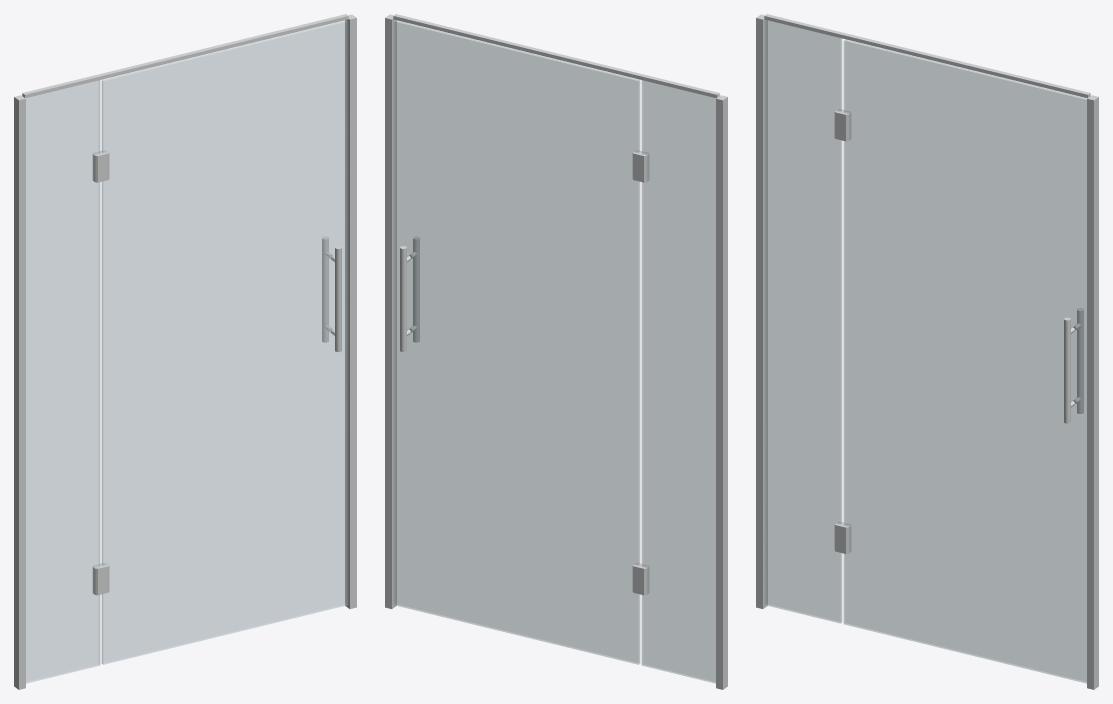
3 renders of one model, left to right at view 1: azimuth 30°, elevation 25°; view 2: azimuth 150°, elevation 25°; view 3: azimuth 330°, elevation 25°, orthographic.
Visible parts, largest first — view 1: Vách tắm kính Rộng=1200; view 2: Vách tắm kính Rộng=1200; view 3: Vách tắm kính Rộng=1200.
Part boxes in pixels (bbox=[...]): Vách tắm kính Rộng=1200: bbox=[14, 14, 356, 689]; Vách tắm kính Rộng=1200: bbox=[385, 14, 727, 689]; Vách tắm kính Rộng=1200: bbox=[756, 14, 1098, 689].
Size of the model in its own units: 1.2 by 2.01 by 0.102.
